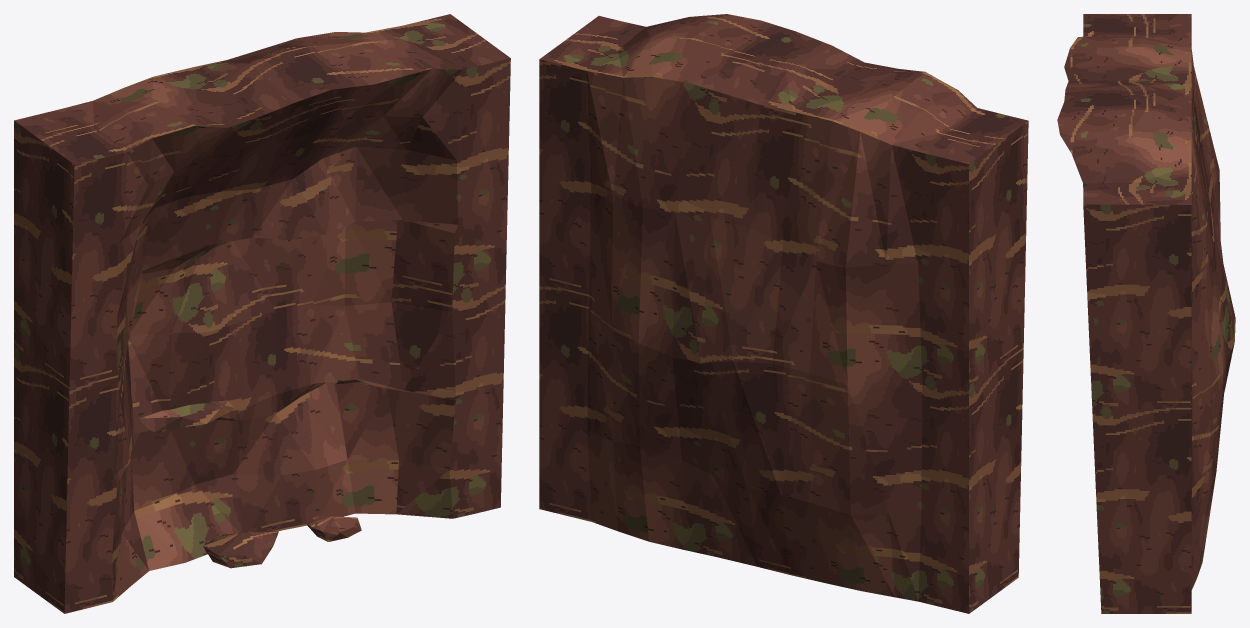
Rendered from SM_AN01_EarthWall.fbx.
The picture shows the model from 3 angles, left to right: view 1: azimuth 30°, elevation 25°; view 2: azimuth 150°, elevation 25°; view 3: azimuth 270°, elevation 25°; orthographic projection. The views are drawn at different scales.
Visible parts, largest first — view 1: AN01a_Earth; view 2: AN01a_Earth; view 3: AN01a_Earth.
Boxes of the visible parts, left/top/right/bottom form: AN01a_Earth: left=14, top=14, right=510, bottom=613; AN01a_Earth: left=539, top=14, right=1028, bottom=613; AN01a_Earth: left=1057, top=14, right=1235, bottom=613.
Size of the model in its own units: 4 by 4.23 by 1.58.
